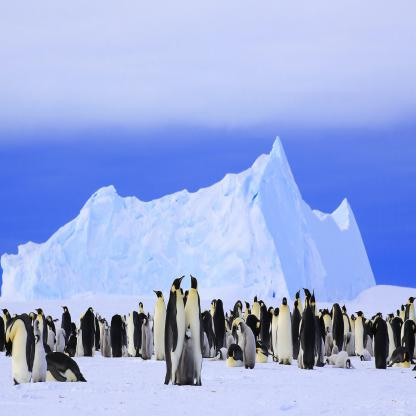Penguin: (181, 260, 215, 386), (163, 265, 192, 385), (5, 307, 42, 388), (298, 287, 324, 372), (272, 287, 298, 365), (174, 320, 204, 385), (78, 297, 104, 358), (369, 312, 393, 378), (328, 295, 352, 357), (347, 306, 371, 366), (234, 319, 261, 371), (53, 300, 77, 358), (108, 304, 132, 360), (395, 308, 416, 370)
